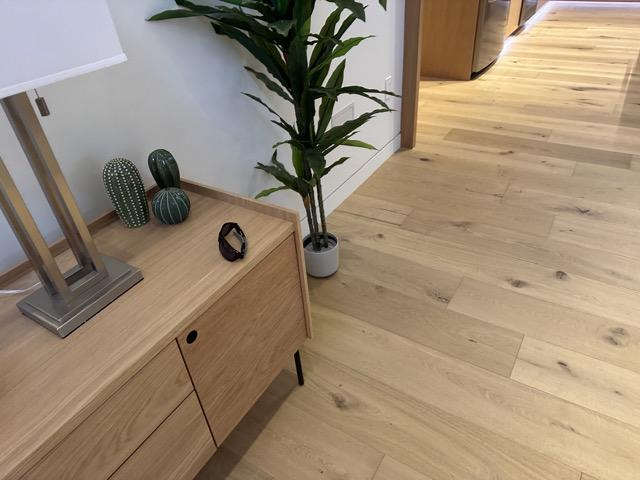Sunglasses: (217, 220, 248, 262)
